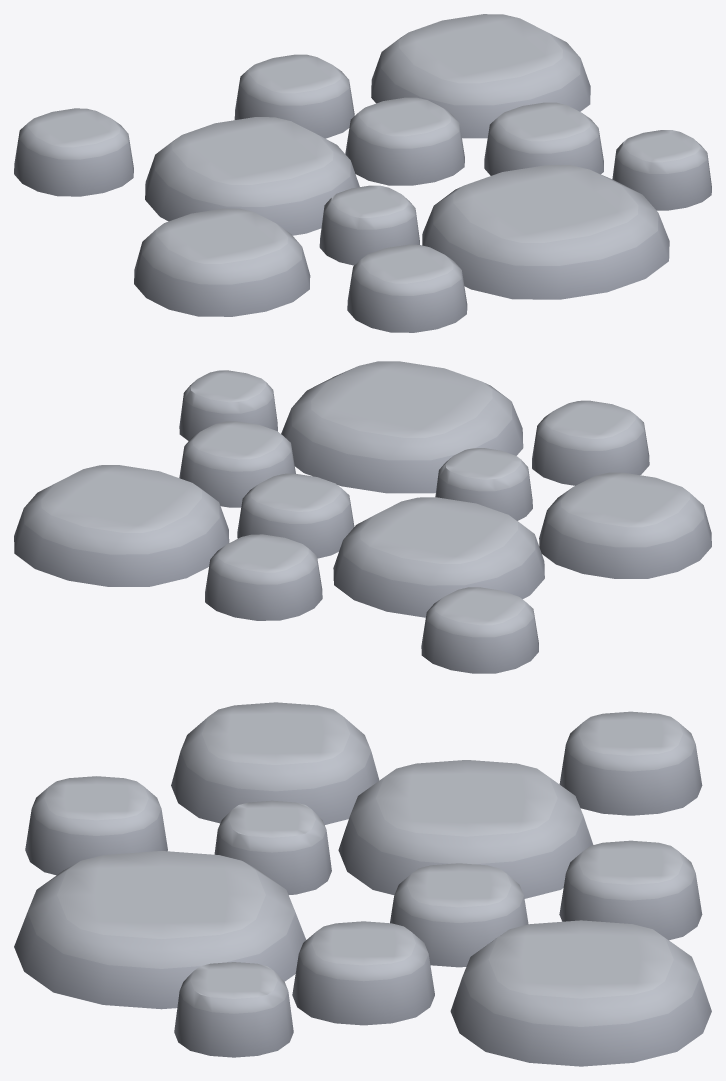
File: cobble_stones_large.fbx
3 views of the same model, one above another, from view 1: azimuth 30°, elevation 25°; view 2: azimuth 150°, elevation 25°; view 3: azimuth 270°, elevation 25° (orthographic). The views are drawn at different scales.
Visible parts, largest first — view 1: cobble_stones_large; view 2: cobble_stones_large; view 3: cobble_stones_large.
Boxes of the visible parts, left/top/right/bottom form: cobble_stones_large: left=14, top=14, right=711, bottom=332; cobble_stones_large: left=14, top=361, right=711, bottom=673; cobble_stones_large: left=14, top=702, right=711, bottom=1066.
Bounding box in the file's own units: 2.02 × 0.15 × 1.83.
